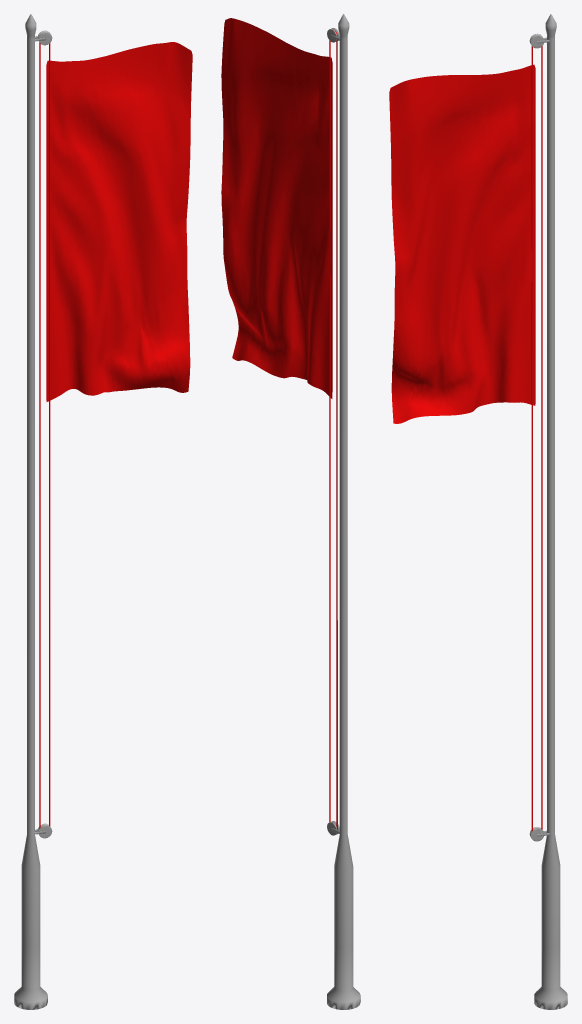
File: FinishFlagModel.fbx
3 renders of one model, left to right at view 1: azimuth 90°, elevation 25°; view 2: azimuth 210°, elevation 25°; view 3: azimuth 270°, elevation 25°, orthographic.
Visible parts, largest first — view 1: Flag; view 2: Flag; view 3: Flag.
Boxes of the visible parts, box(x1,y1,x2,y2) form: Flag: box(14, 14, 192, 1009); Flag: box(221, 14, 360, 1009); Flag: box(389, 14, 567, 1009).
Bounding box in the file's own units: 48.43 × 776 × 127.
